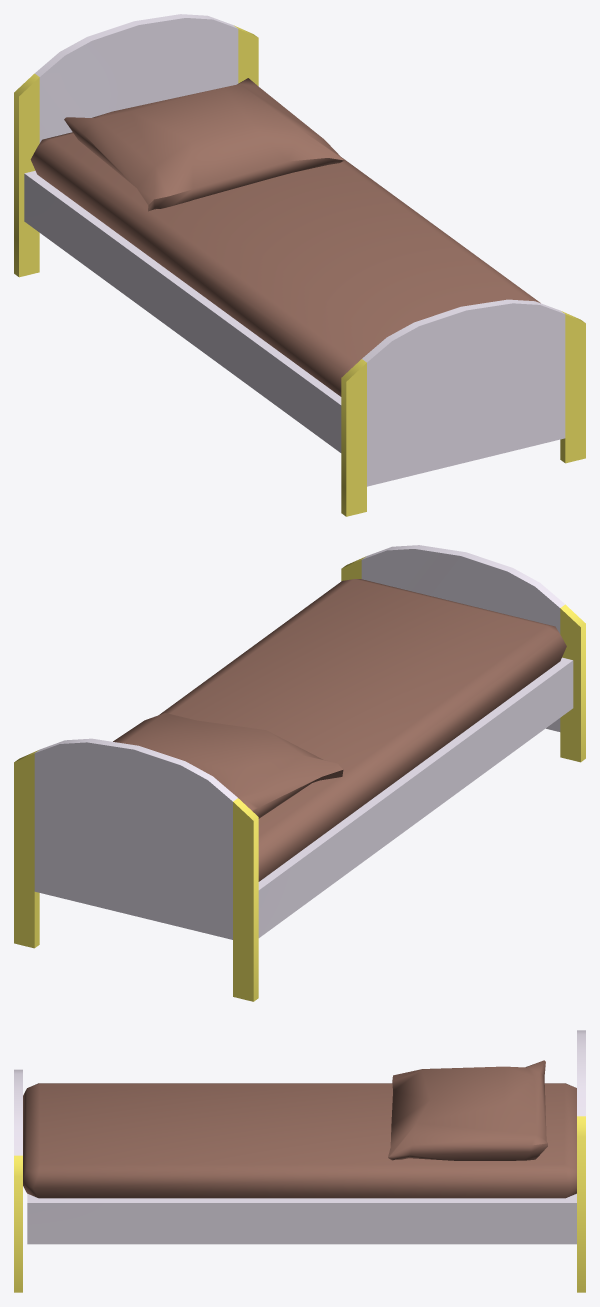
Rendered from bed_010.glb.
3 renders of one model, top to bottom at view 1: azimuth 30°, elevation 25°; view 2: azimuth 150°, elevation 25°; view 3: azimuth 270°, elevation 25°, orthographic. The views are drawn at different scales.
Visible parts, largest first — view 1: bed_010; view 2: bed_010; view 3: bed_010.
Part boxes in pixels (<box>): bed_010: <box>14,14,585,516</box>; bed_010: <box>14,545,585,1001</box>; bed_010: <box>14,1030,585,1292</box>.
Size of the model in its own units: 0.6949 by 0.6181 by 1.67.
Materials: 1 (1 with a texture image).
